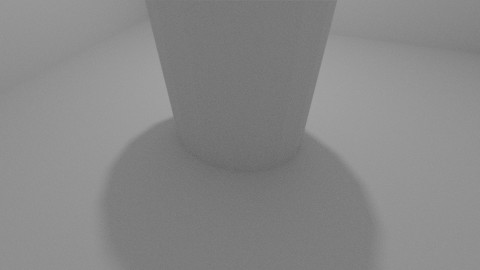cheminee: (145, 1, 337, 172)
